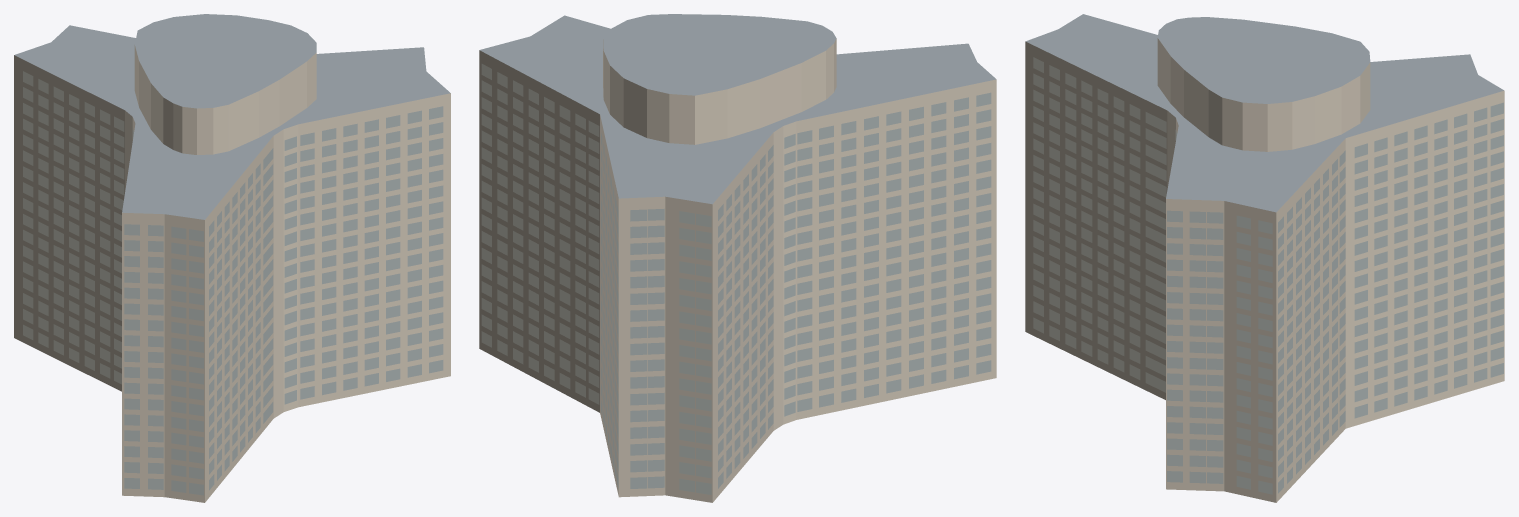
File: detail.glb
The picture shows the model from 3 angles, left to right: view 1: azimuth 30°, elevation 25°; view 2: azimuth 150°, elevation 25°; view 3: azimuth 270°, elevation 25°; orthographic projection. The views are drawn at different scales.
Visible parts, largest first — view 1: stone, window, roof; view 2: stone, window, roof; view 3: stone, window, roof.
Boxes of the visible parts, x1=… form: stone: x1=14, y1=45, x2=450, y2=502; window: x1=23, y1=71, x2=443, y2=495; roof: x1=14, y1=14, x2=450, y2=219; stone: x1=479, y1=38, x2=996, y2=502; window: x1=481, y1=64, x2=991, y2=494; roof: x1=479, y1=14, x2=996, y2=204; stone: x1=1025, y1=38, x2=1504, y2=502; window: x1=1033, y1=57, x2=1503, y2=494; roof: x1=1026, y1=14, x2=1503, y2=212.
Size of the model in its own units: 73.25 by 58.24 by 74.73.
